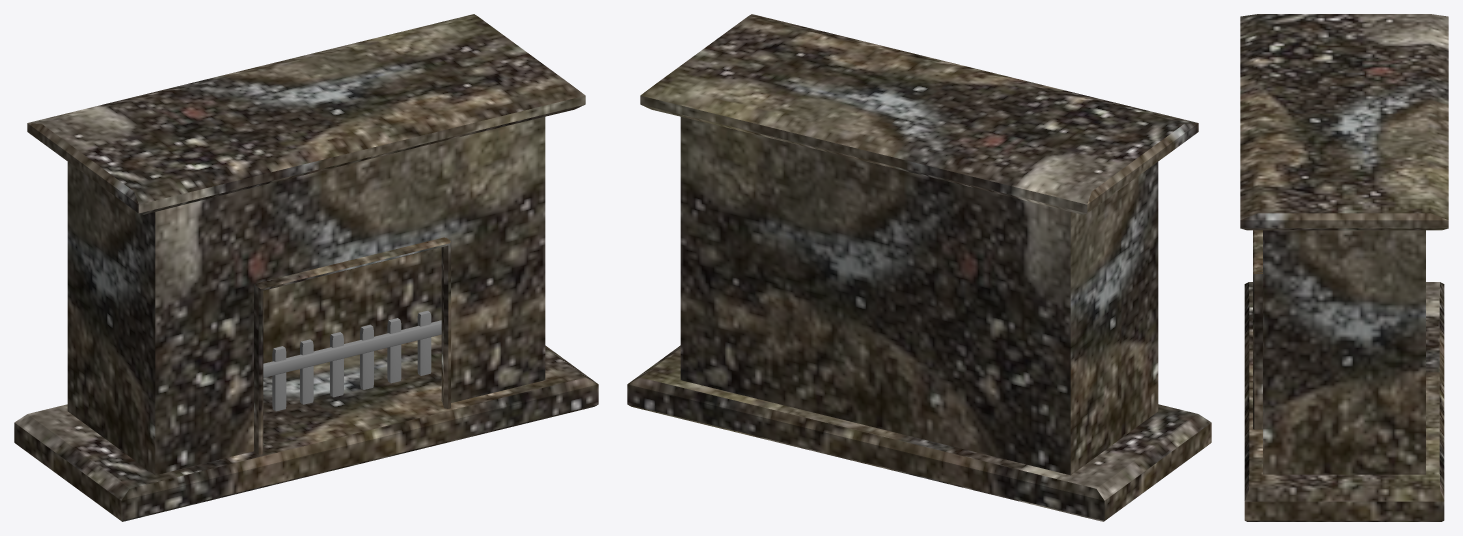
Rendered from Semineu.fbx.
3 renders of one model, left to right at view 1: azimuth 30°, elevation 25°; view 2: azimuth 150°, elevation 25°; view 3: azimuth 270°, elevation 25°, orthographic. The views are drawn at different scales.
Visible parts, largest first — view 1: Semineu; view 2: Semineu; view 3: Semineu.
Part boxes in pixels (box(x1,y1,x2,y2)): Semineu: box(14, 14, 598, 521); Semineu: box(627, 14, 1211, 521); Semineu: box(1240, 14, 1448, 521).
Size of the model in its own units: 88.79 by 57.25 by 35.92.
